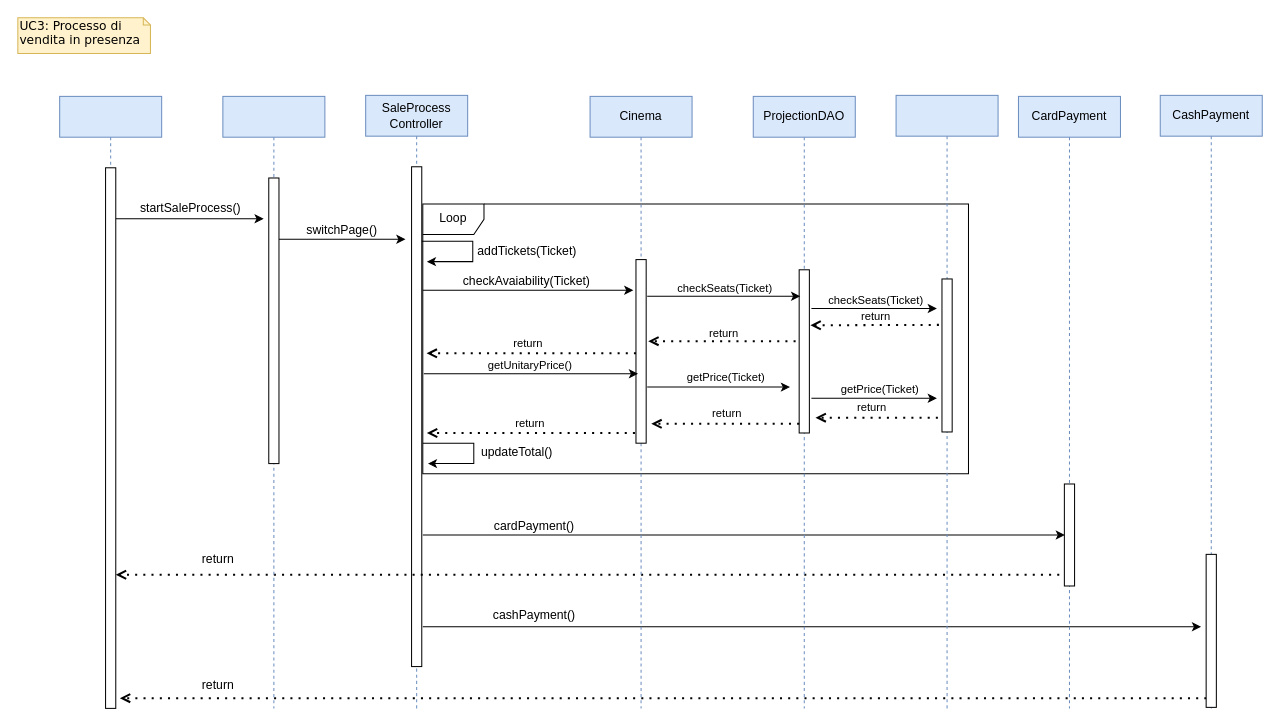
This 1280x726 diagram has some shape labels left out. Here are the shapes that lost their labels. From the top down, the box of each, then its label:
(59, 95, 162, 708): Client
(222, 95, 325, 708): SaleProcessView
(895, 94, 998, 708): CinemaDB
